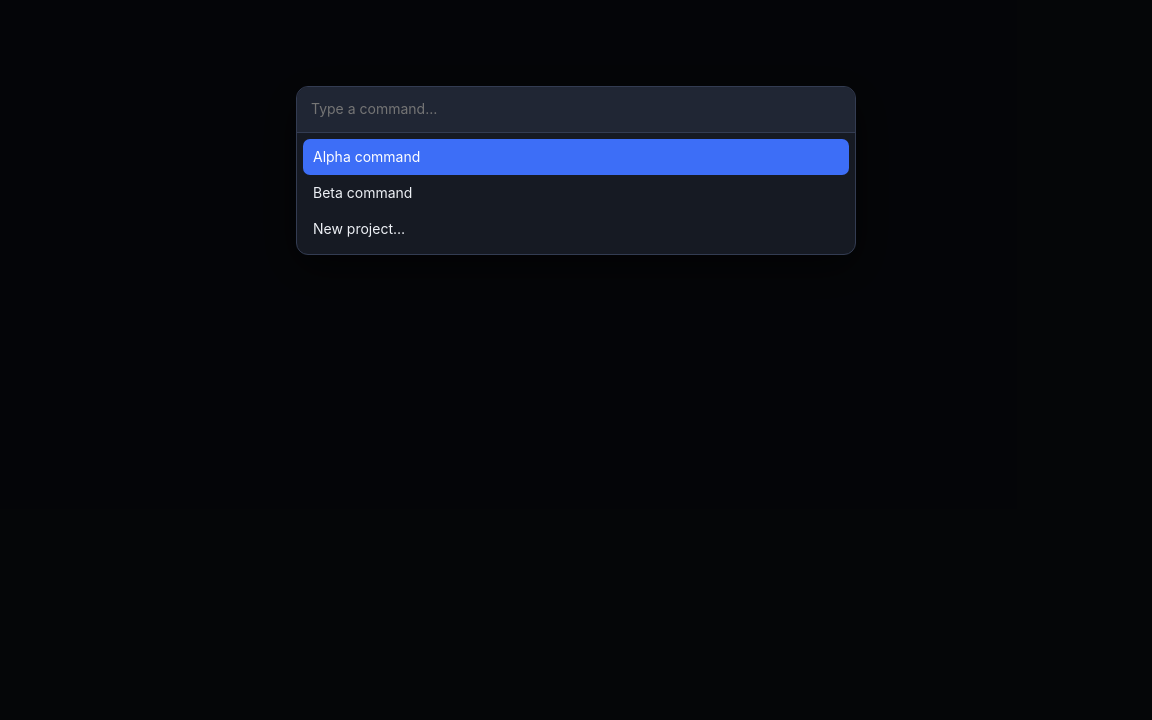
it: <CommandPalette> filtering › shows "No matching command." when nothing matches the filter
This screenshot has width=1152, height=720.
Step 1. Type "zzz" into the field → (576, 110), box [297,87,855,133]
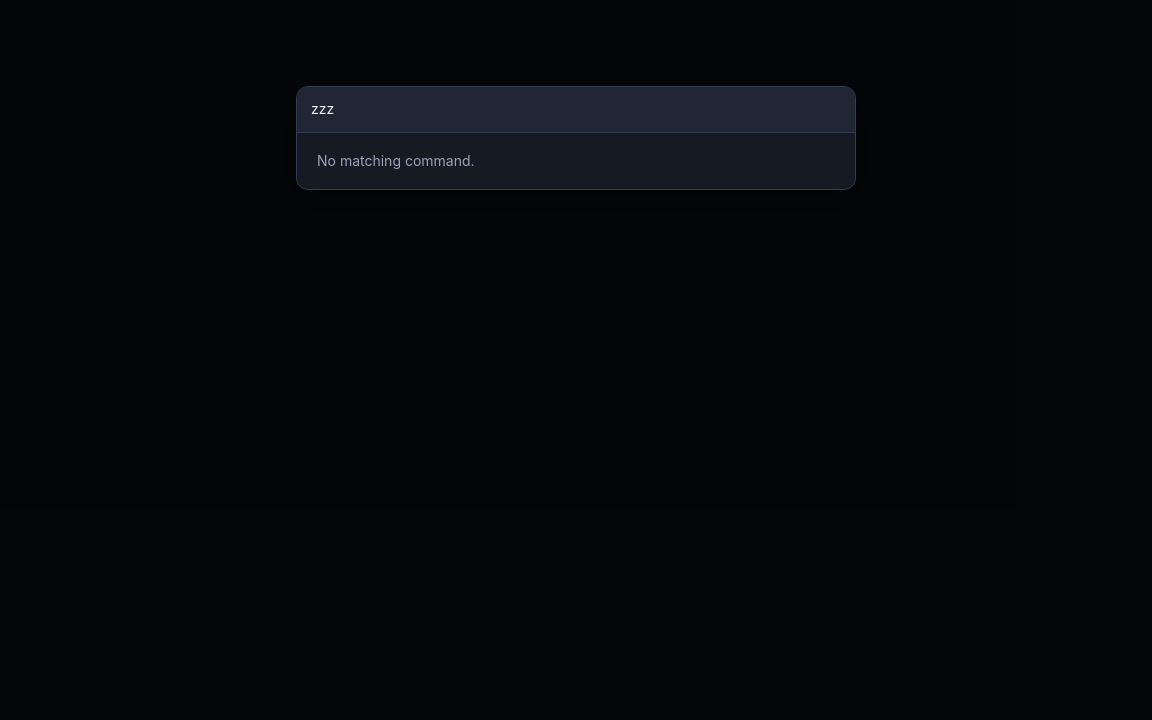
expect the list item "No matching command." is shown: met, box [317,152,475,169]
expect the option is gone: met
